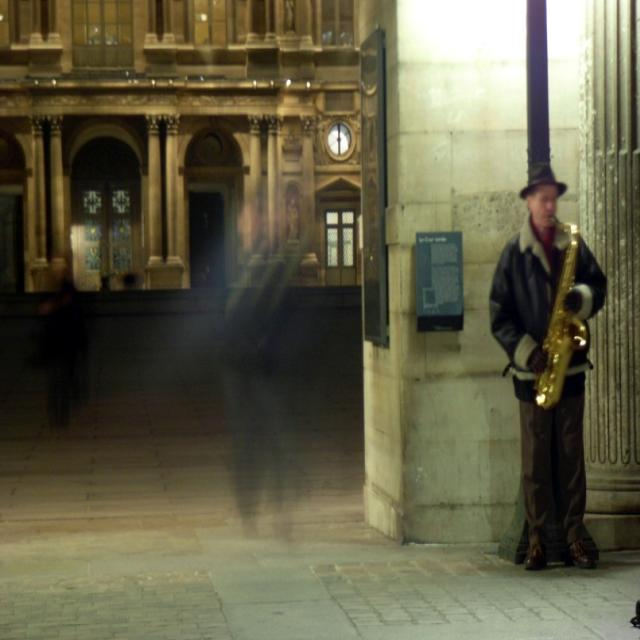saxophone: (532, 213, 591, 410)
